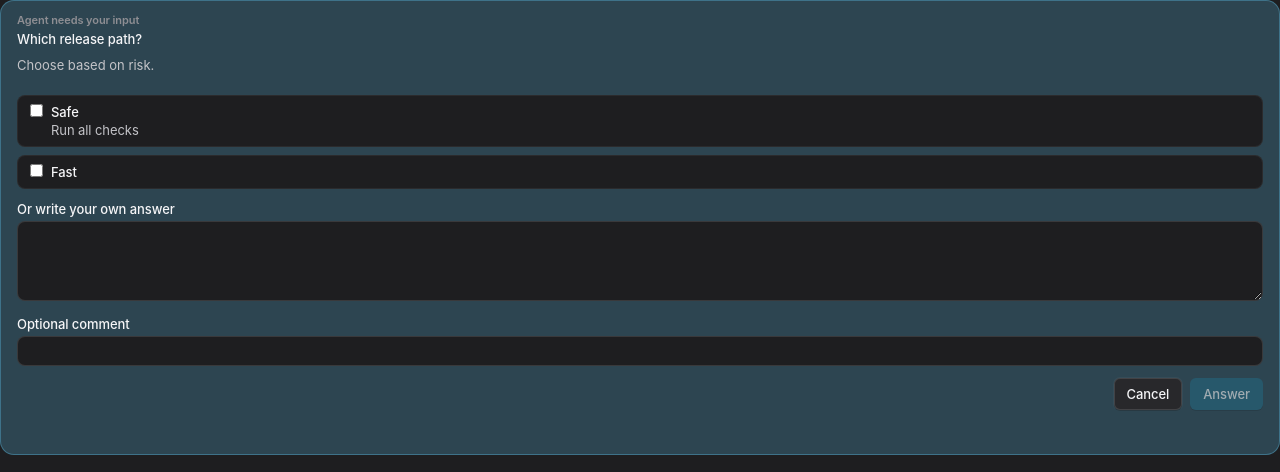
Test: AskUserDecisionCard › keeps multi-select and freeform mutually exclusive and retries a valid payload
Step 1. Click the checkbox labelled "Safe Run all checks" → [36, 110], box [30,104,43,117]
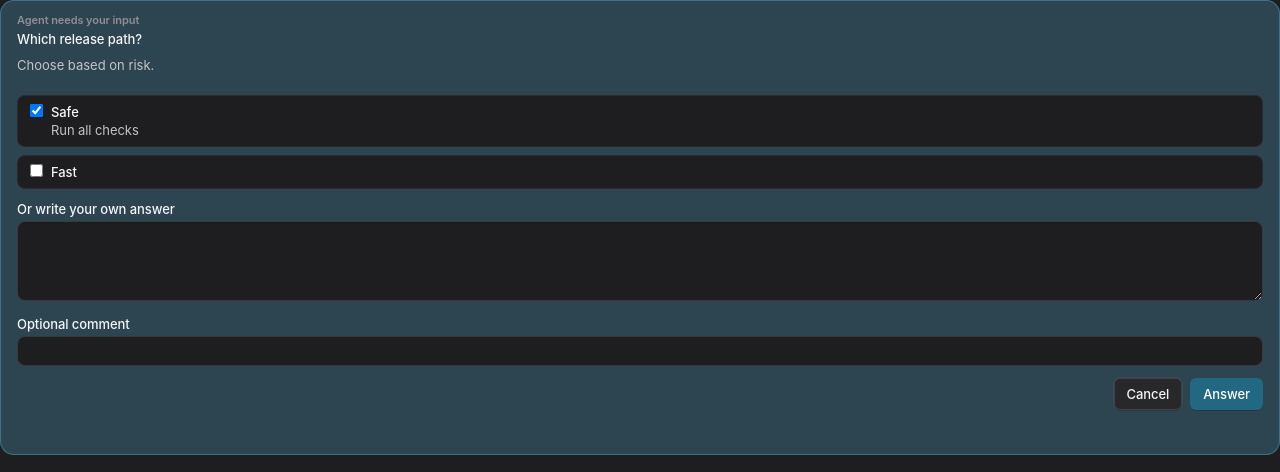
Step 2. Click the checkbox labelled "Fast" → [36, 170], box [30,164,43,177]
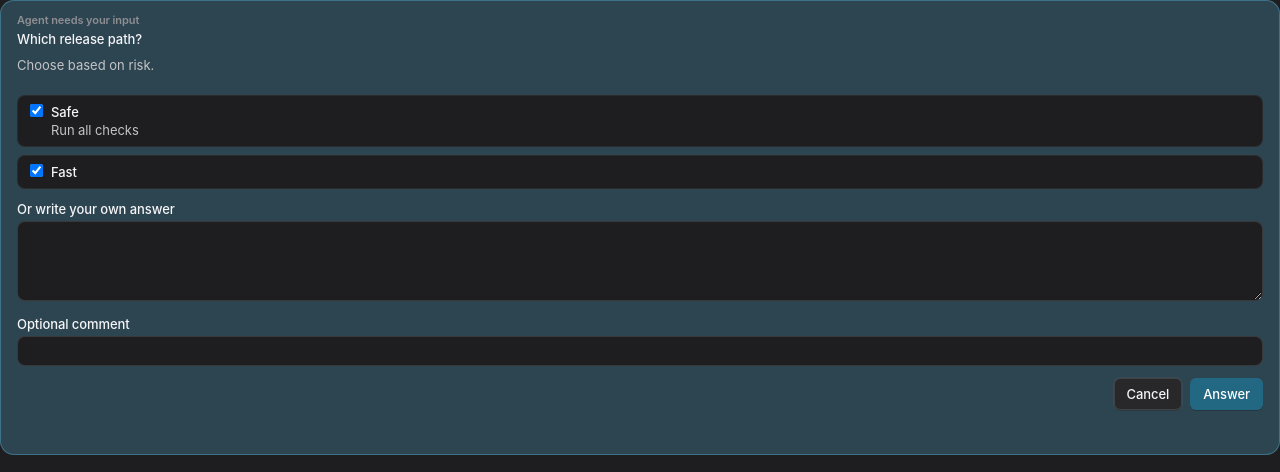
Result: the checkbox labelled "Safe Run all checks" is checked at [30,104,43,117]
Result: the checkbox labelled "Fast" is checked at [30,164,43,177]
Step 3. Type "A staged rollout" into the text box labelled "Or write your own answer" → [640, 261], box [17,221,1263,301]
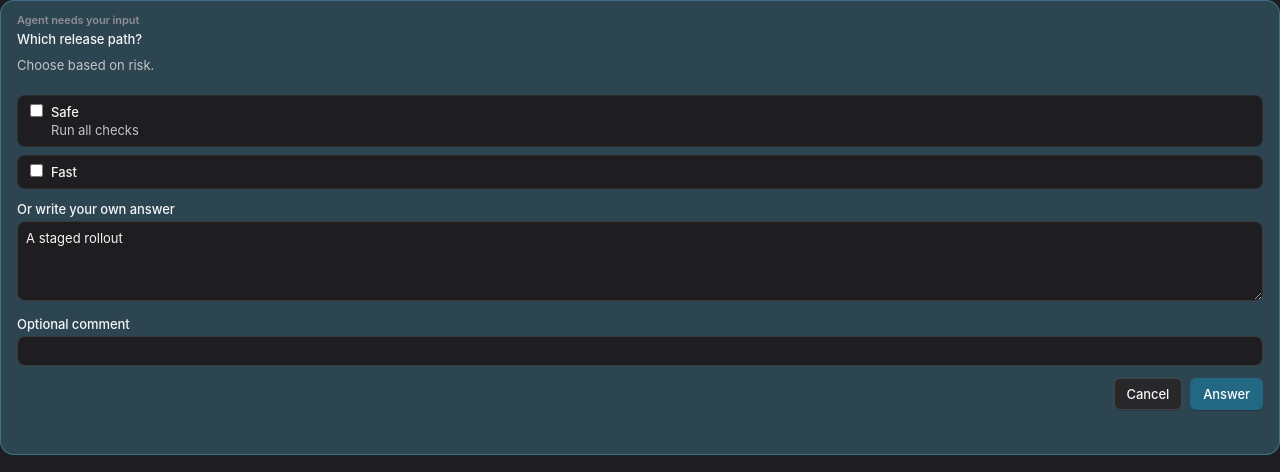
Result: the checkbox labelled "Safe Run all checks" is not checked at [30,104,43,117]
Result: the checkbox labelled "Fast" is not checked at [30,164,43,177]
Step 4. Click the button "Answer" → [1227, 394], box [1190,378,1263,410]
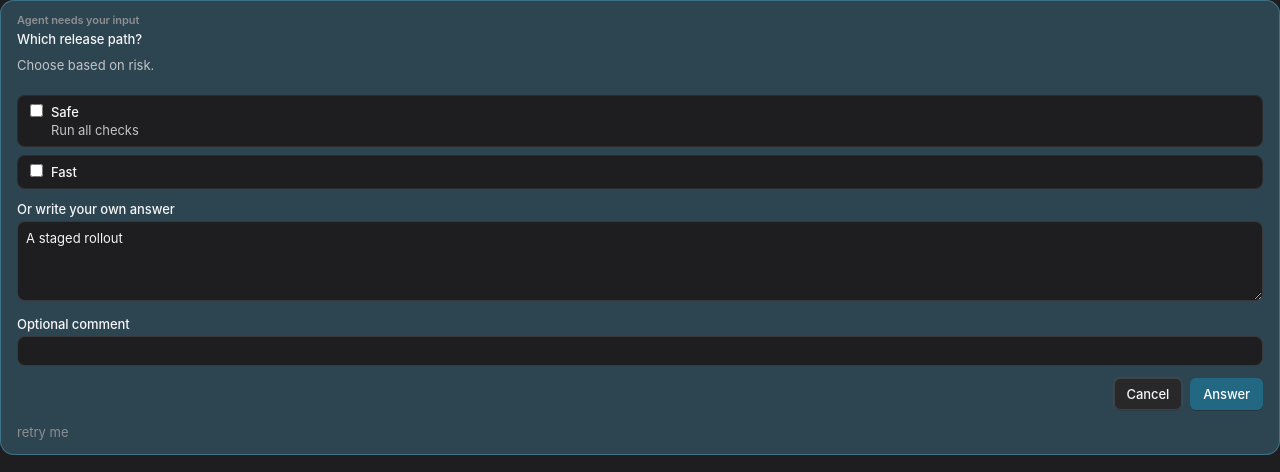
Result: the text "retry me" is shown at [17,424,68,440]
Step 5. Click the checkbox labelled "Safe Run all checks" → [36, 110], box [30,104,43,117]
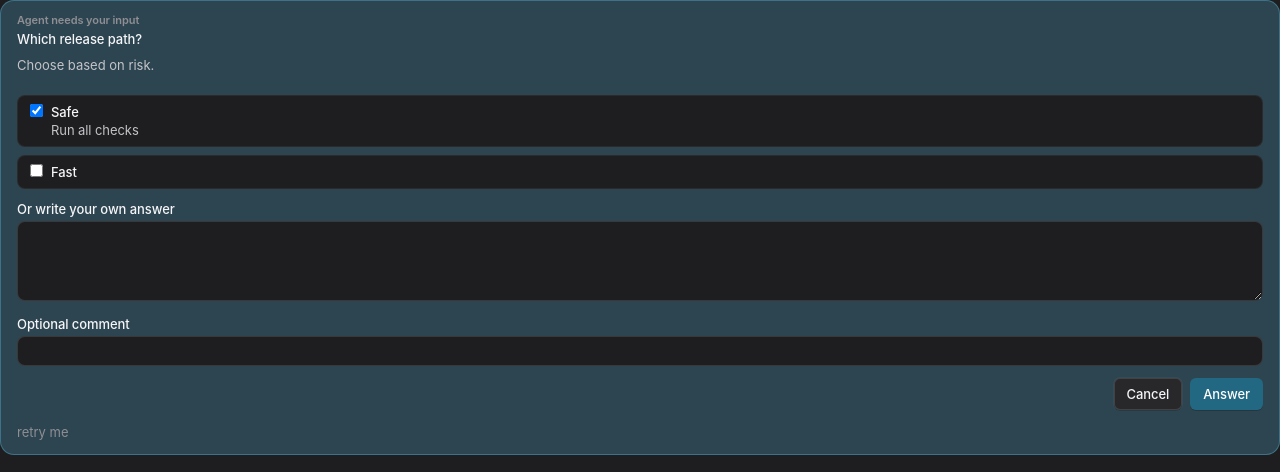
Result: the checkbox labelled "Safe Run all checks" is checked at [30,104,43,117]
Result: the text box labelled "Or write your own answer" is empty at [17,221,1263,301]
Step 6. Type "Approved after review" into the field labelled "Optional comment" → [640, 351], box [17,336,1263,366]
Step 7. Click the button "Answer" → [1227, 394], box [1190,378,1263,410]
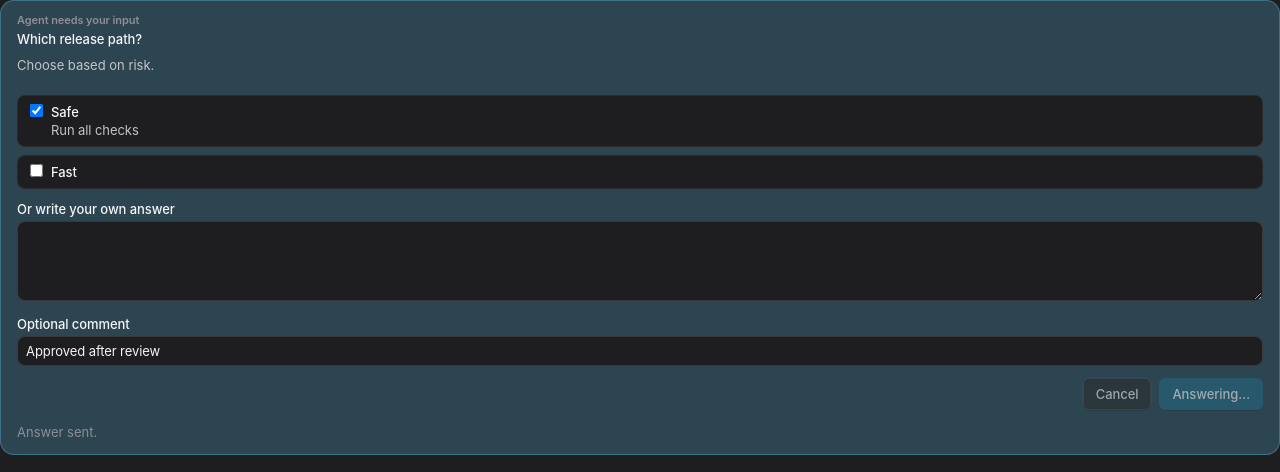
Result: the text "Answer sent." is shown at [17,424,97,440]
